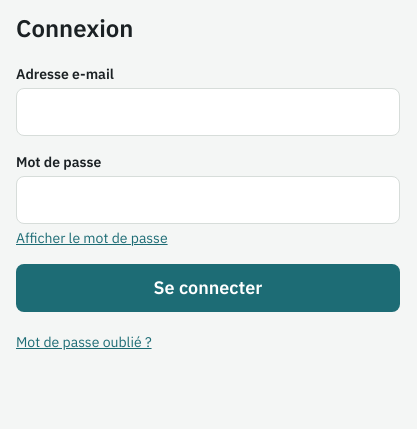
it: LoginPage (D5, ADR-030) › D5_showsTheTranslatedMessageOfTheErrorCode
This screenshot has width=417, height=429.
Type "amina@example.dz" into the field labelled "Adresse e-mail".
click(208, 112); type("amina@example.dz")  # box top-left (16, 88), bottom-right (400, 136)
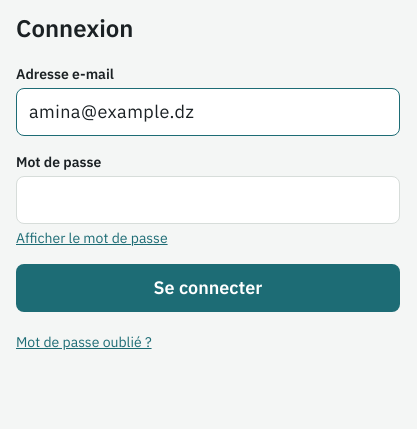
Type "wrong password" into the password field labelled "Mot de passe".
click(208, 200); type("wrong password")  # box top-left (16, 176), bottom-right (400, 224)
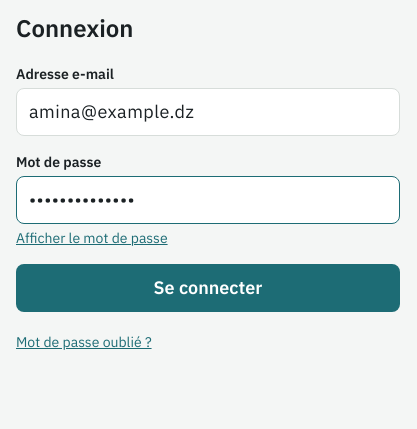
Click the button "Se connecter".
click(208, 288)  # box top-left (16, 264), bottom-right (400, 312)
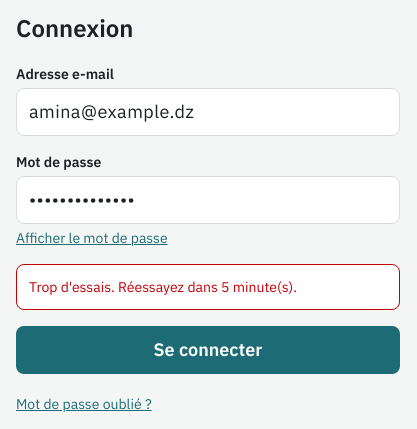
Now the message reads "Trop d'essais. Réessayez dans 5 minute(s).", box top-left (29, 278), bottom-right (297, 296)
